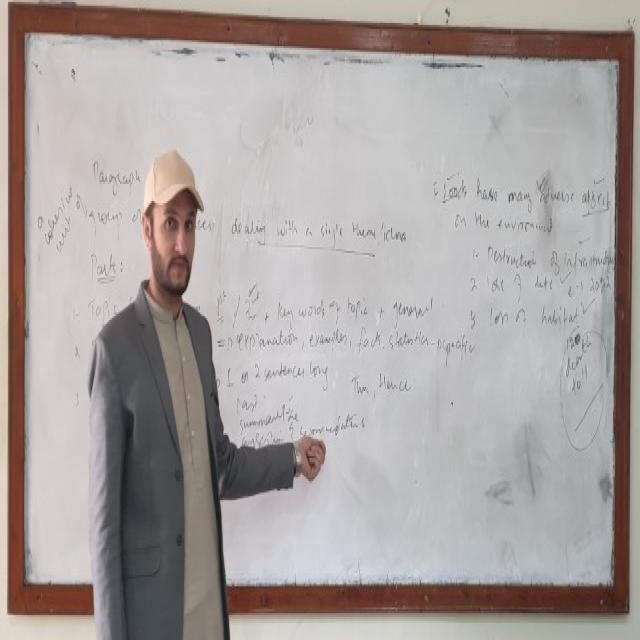Instructor: (92, 140, 228, 640)
White-board: (14, 18, 626, 607)
